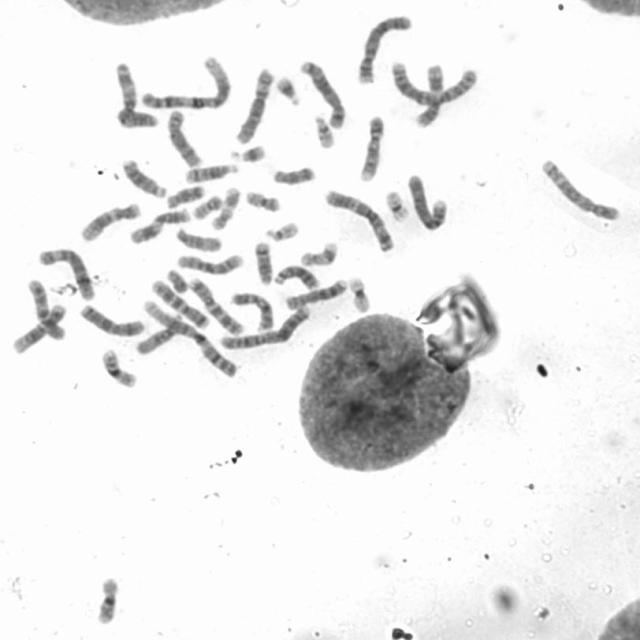A1: (138, 297, 240, 380), (137, 52, 234, 111)
A2: (216, 303, 314, 351), (387, 58, 480, 107)
A3: (320, 186, 396, 253), (110, 62, 161, 128)
B4: (353, 11, 414, 86), (405, 169, 449, 232)
B5: (537, 155, 622, 222), (297, 56, 348, 130)
C10: (24, 275, 66, 341), (174, 250, 245, 277)
C11: (126, 205, 192, 245), (412, 61, 446, 128)
C12: (9, 302, 67, 356), (77, 199, 143, 243)
C6: (35, 244, 97, 302), (232, 66, 276, 146)
C7: (187, 275, 244, 336), (148, 276, 212, 330)
C8: (164, 106, 203, 169), (282, 276, 350, 312)
C9: (355, 112, 387, 183), (228, 290, 275, 332)
D13: (118, 155, 167, 200), (270, 262, 321, 291)
D14: (182, 161, 239, 184), (252, 239, 274, 287)
D15: (132, 307, 184, 356), (173, 226, 223, 253)
E16: (98, 345, 138, 389), (94, 574, 120, 626)
E17: (209, 184, 242, 232), (296, 239, 340, 268)
E18: (163, 181, 207, 210), (269, 163, 317, 187)
F19: (346, 273, 374, 315), (383, 188, 411, 223)
F20: (243, 187, 283, 213), (190, 192, 224, 221)
G21: (274, 72, 302, 108), (227, 142, 269, 164)
G22: (312, 112, 336, 150), (263, 218, 301, 242)
X: (76, 300, 146, 338)
Y: (164, 266, 189, 294)
